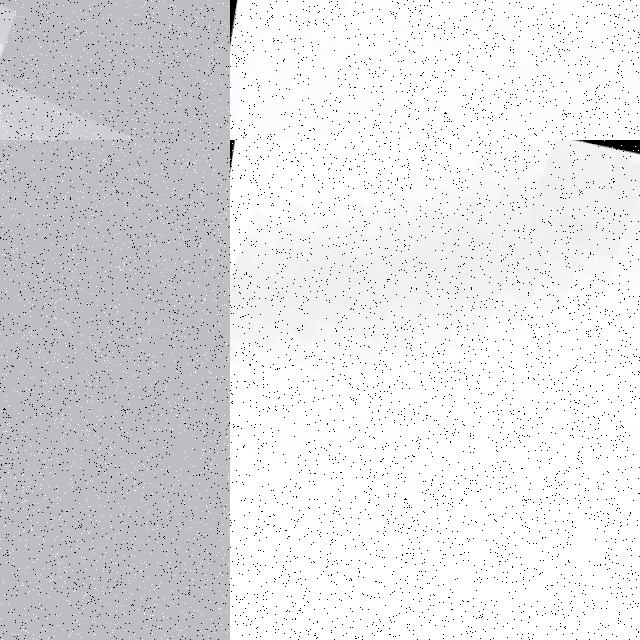drone: (230, 140, 640, 640), (230, 0, 640, 140), (0, 0, 230, 140)
